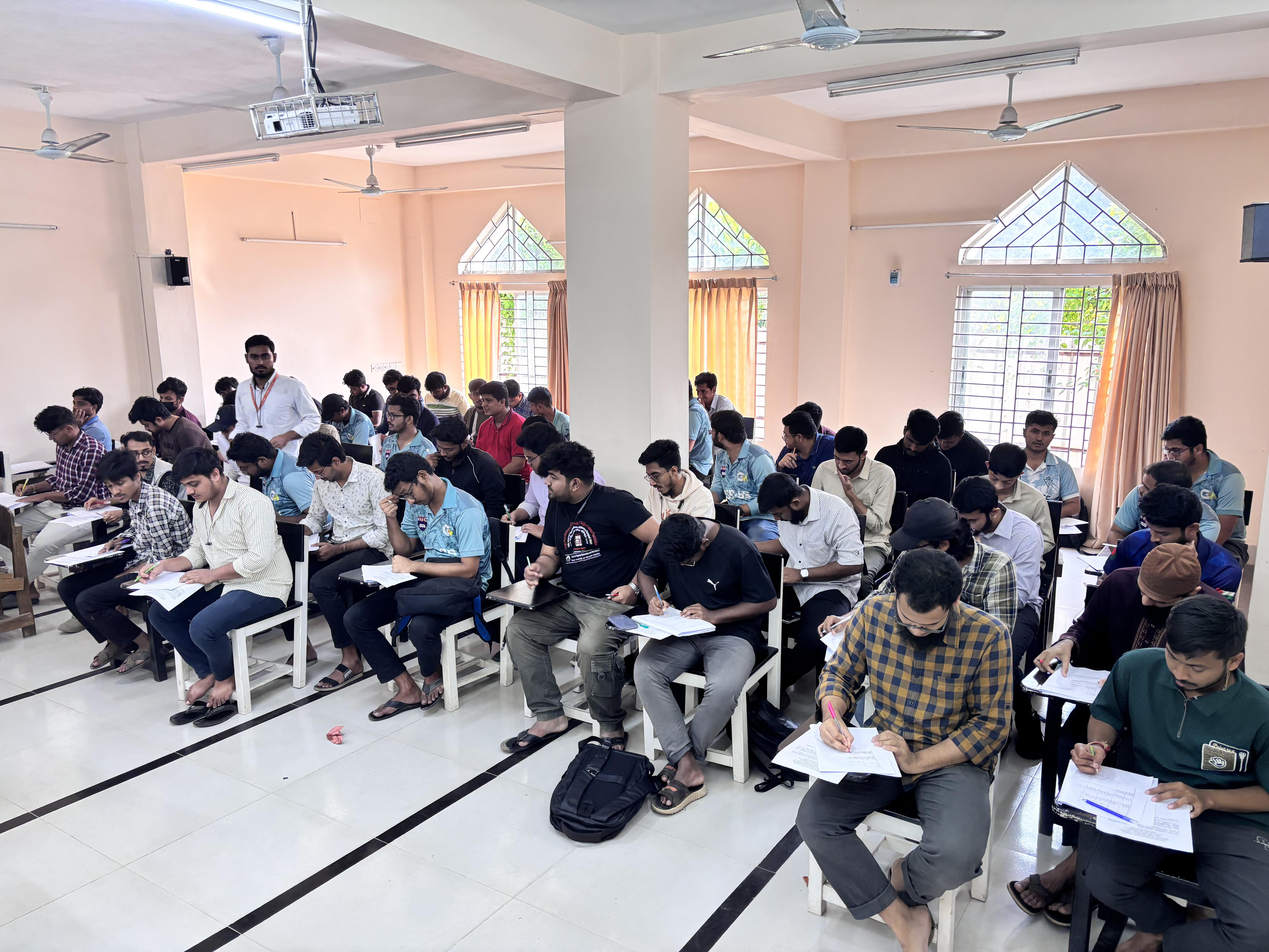copying: (90, 467, 181, 622), (700, 405, 762, 496), (502, 416, 549, 521), (518, 386, 581, 435)
invigilator: (237, 330, 317, 431)
no_cheating: (1054, 598, 1256, 814), (836, 561, 1002, 792), (499, 458, 635, 725), (151, 464, 267, 682), (347, 456, 480, 635), (1073, 540, 1215, 665), (20, 407, 120, 559), (293, 442, 377, 603), (739, 468, 852, 581), (949, 476, 1038, 583), (1107, 491, 1218, 556), (812, 434, 893, 522), (630, 440, 707, 526), (903, 502, 980, 583), (227, 438, 301, 519), (1024, 407, 1093, 488), (890, 402, 943, 500), (986, 449, 1046, 528), (425, 412, 485, 484), (938, 409, 992, 484), (474, 380, 514, 470), (68, 388, 124, 452), (131, 398, 211, 440), (381, 399, 429, 464), (422, 366, 462, 427), (693, 367, 736, 422), (342, 367, 375, 423), (150, 378, 189, 413), (209, 368, 239, 412), (395, 376, 422, 403)
side_talking: (773, 410, 837, 477)
suspicious_moving: (1111, 456, 1212, 544), (1154, 401, 1235, 491), (114, 432, 165, 484), (377, 367, 401, 395)
